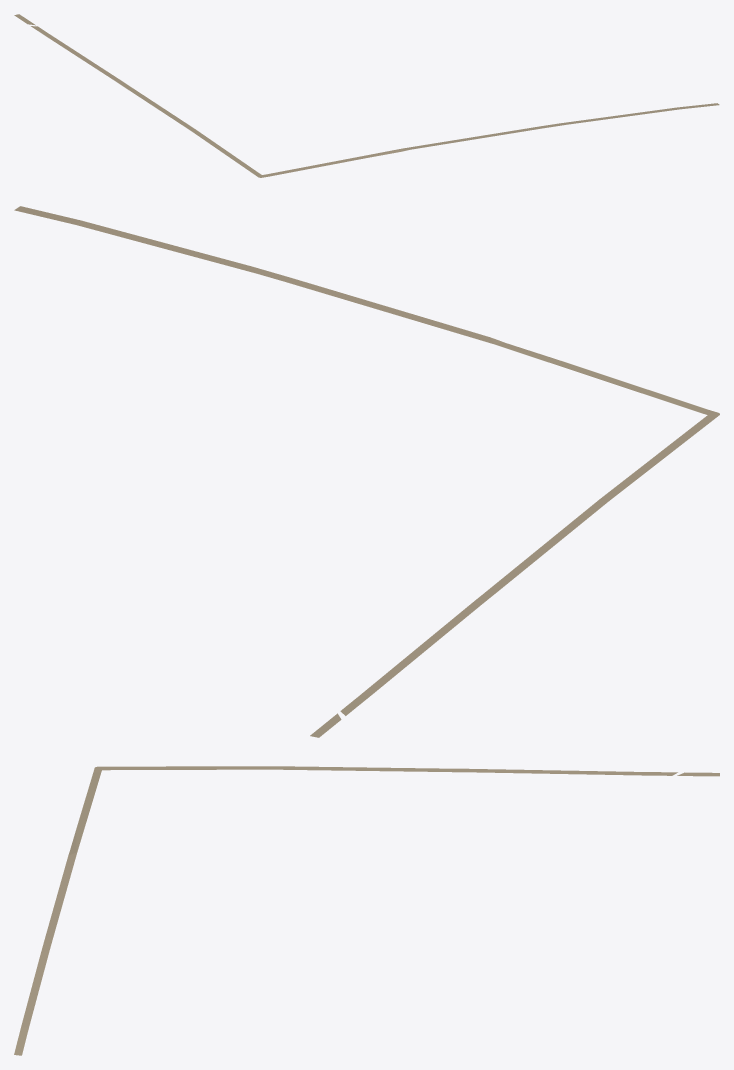
The model's file is farm_26_40_track.glb.
3 views of the same model, one above another, from view 1: azimuth 30°, elevation 25°; view 2: azimuth 150°, elevation 25°; view 3: azimuth 270°, elevation 25° (orthographic). The views are drawn at different scales.
Visible parts, largest first — view 1: geometry_0; view 2: geometry_0; view 3: geometry_0.
Boxes of the visible parts, x1,y1,x2,y2 form: geometry_0: (14,14,719,177); geometry_0: (14,206,719,737); geometry_0: (14,766,719,1055).
Size of the model in its own units: 274 by 6.6 by 290.
